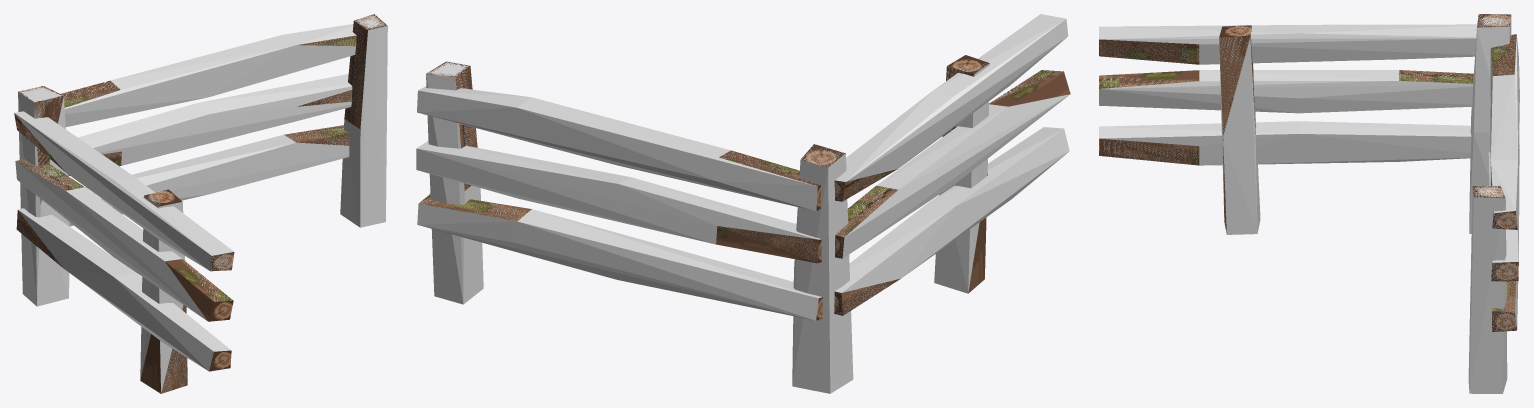
File: SM_ST03_FenceCorner_Parts.fbx
3 renders of one model, left to right at view 1: azimuth 30°, elevation 25°; view 2: azimuth 150°, elevation 25°; view 3: azimuth 270°, elevation 25°, orthographic. The views are drawn at different scales.
Parts seen in each view (by area): view 1: ST03_Rail_5_COL, ST03_Rail_6_COL, ST03_Rail_3_COL, ST03_Rail_1_COL, ST03_Post_3_COL, ST03_Rail_4_COL, ST03_Rail_2_COL, ST03_Post_2_COL, ST03_Rail_2, ST03_Post_1_COL, ST03_Post_1, ST03_Post_3 (+6 smaller); view 2: ST03_Rail_5_COL, ST03_Rail_4_COL, ST03_Rail_6_COL, ST03_Rail_1_COL, ST03_Rail_3_COL, ST03_Post_2_COL, ST03_Rail_2_COL, ST03_Post_3_COL, ST03_Post_1_COL, ST03_Rail_2, ST03_Rail_6, ST03_Post_1 (+6 smaller); view 3: ST03_Rail_1_COL, ST03_Rail_2_COL, ST03_Rail_3_COL, ST03_Post_3_COL, ST03_Post_1_COL, ST03_Rail_5_COL, ST03_Post_2_COL, ST03_Post_1, ST03_Rail_2, ST03_Rail_3, ST03_Rail_1, ST03_Rail_5 (+5 smaller).
Part boxes in pixels (x1,y1,x2,y2): ST03_Rail_5_COL: (63,24,356,126); ST03_Rail_6_COL: (78,74,352,165); ST03_Rail_3_COL: (14,111,234,270); ST03_Rail_1_COL: (17,208,231,371); ST03_Post_3_COL: (340,14,387,227); ST03_Rail_4_COL: (69,126,349,226); ST03_Rail_2_COL: (15,159,231,321); ST03_Post_2_COL: (18,86,69,306); ST03_Rail_2: (15,159,233,321); ST03_Post_1_COL: (140,190,187,393); ST03_Post_1: (140,189,187,393); ST03_Post_3: (344,14,387,129); ST03_Rail_5_COL: (417,86,817,211); ST03_Rail_4_COL: (417,195,822,320); ST03_Rail_6_COL: (416,141,820,262); ST03_Rail_1_COL: (834,127,1069,314); ST03_Rail_3_COL: (835,14,1068,201); ST03_Post_2_COL: (792,144,853,393); ST03_Rail_2_COL: (835,70,1069,258); ST03_Post_3_COL: (426,61,483,304); ST03_Post_1_COL: (934,63,989,293); ST03_Rail_2: (835,70,1070,258); ST03_Rail_6: (716,226,821,263); ST03_Post_1: (942,55,989,293); ST03_Rail_1_COL: (1099,121,1471,165); ST03_Rail_2_COL: (1099,70,1473,113); ST03_Rail_3_COL: (1099,24,1477,64); ST03_Post_3_COL: (1468,185,1507,393); ST03_Post_1_COL: (1219,25,1260,234); ST03_Rail_5_COL: (1490,35,1519,229); ST03_Post_2_COL: (1469,14,1511,233); ST03_Post_1: (1219,25,1255,234); ST03_Rail_2: (1099,70,1473,88); ST03_Rail_3: (1099,39,1199,64); ST03_Rail_1: (1099,138,1199,165); ST03_Rail_5: (1490,34,1517,229).
Size of the model in its own units: 2.3 by 1.21 by 2.23.
